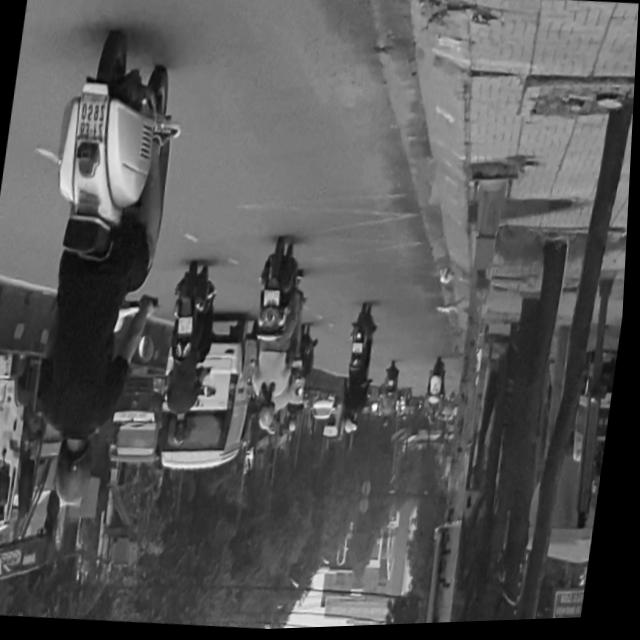helmet: (53, 436, 102, 510)
licenseplate: (8, 22, 198, 519)
nohelmet: (77, 98, 109, 143)
